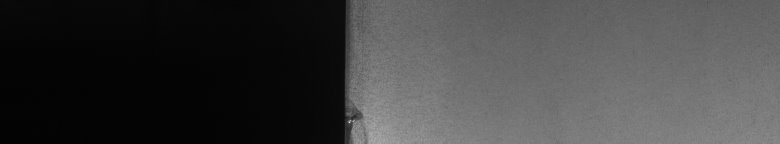hb: (356, 101, 372, 136)
